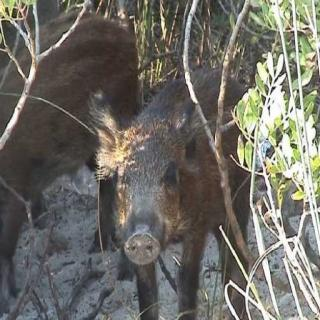Pig: (106, 44, 300, 300)
